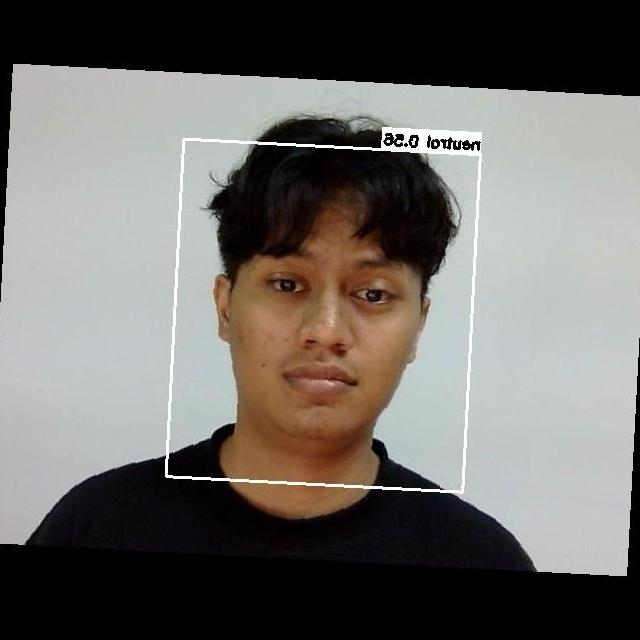Fear: (228, 218, 432, 431)
